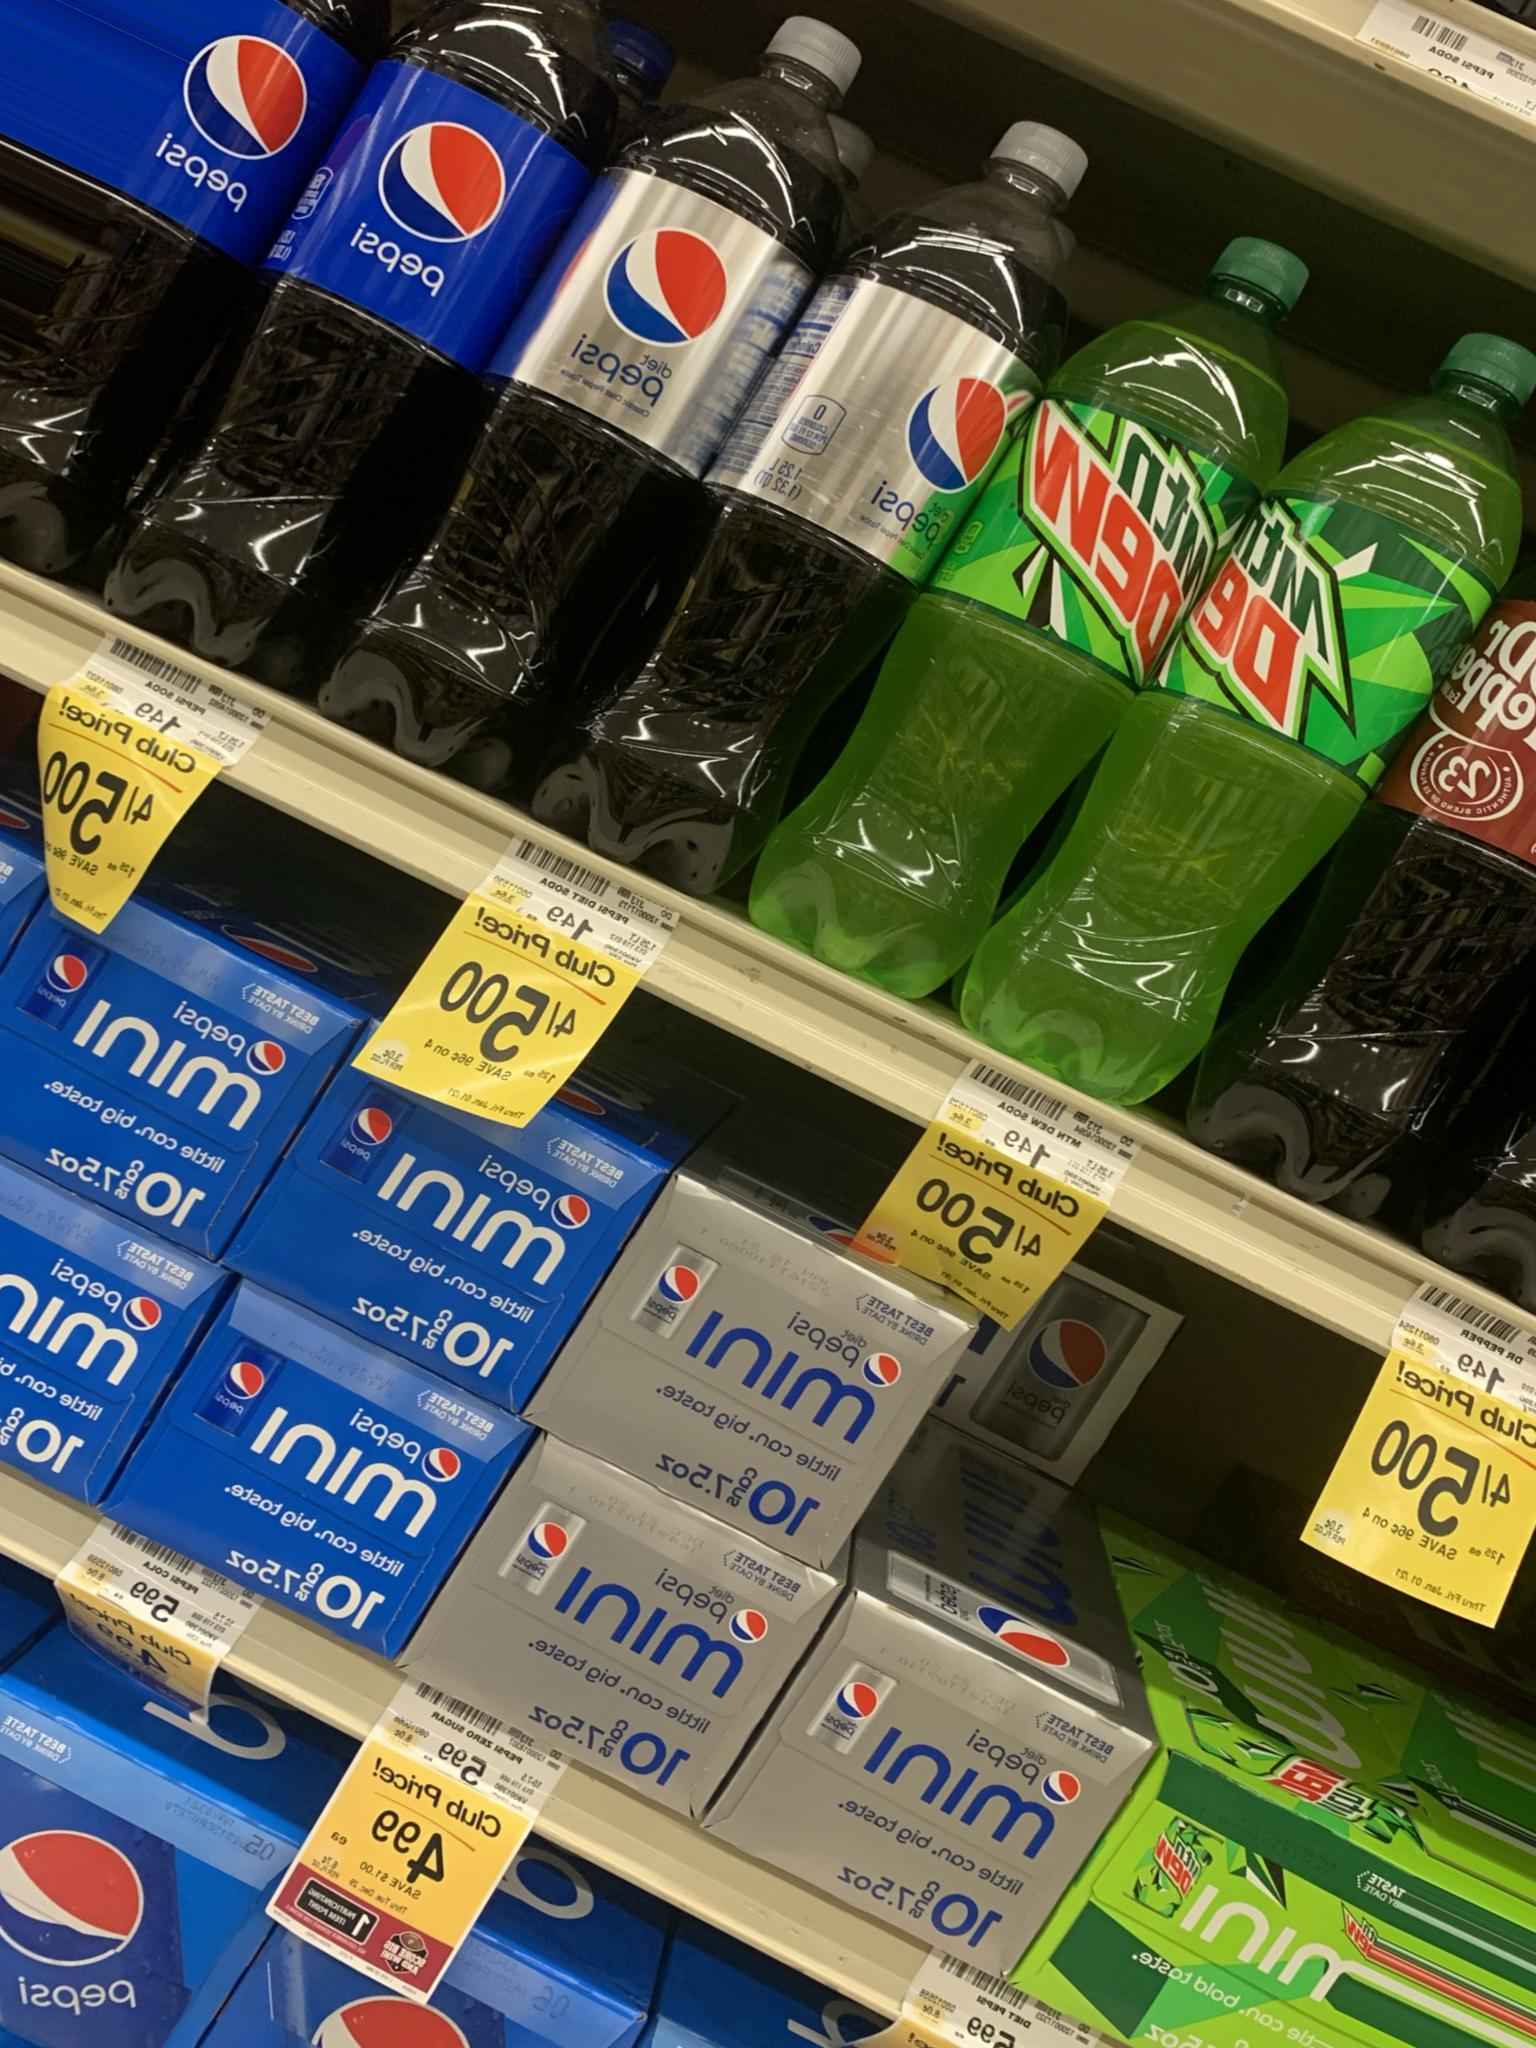diet pepsi: (466, 69, 1049, 610)
diet pepsi soda: (844, 1601, 1047, 1964), (670, 1176, 862, 1534), (537, 1455, 720, 1829)
mountain dew soda: (849, 198, 1275, 1014), (1171, 324, 1388, 1069), (1187, 1761, 1444, 2048)
pepsi soda: (3, 1192, 424, 1601), (32, 2, 248, 548), (248, 47, 399, 629), (60, 884, 282, 1209), (374, 1043, 570, 1385)
